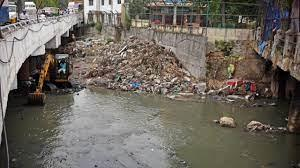Blocked drain: (6, 89, 300, 168)
Trash: (63, 6, 205, 92)
